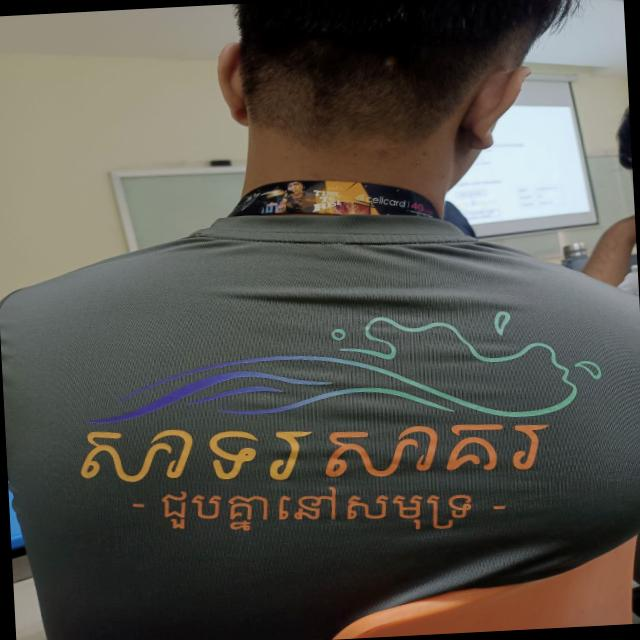Yolov11kh: (73, 415, 565, 489), (154, 484, 485, 533)
